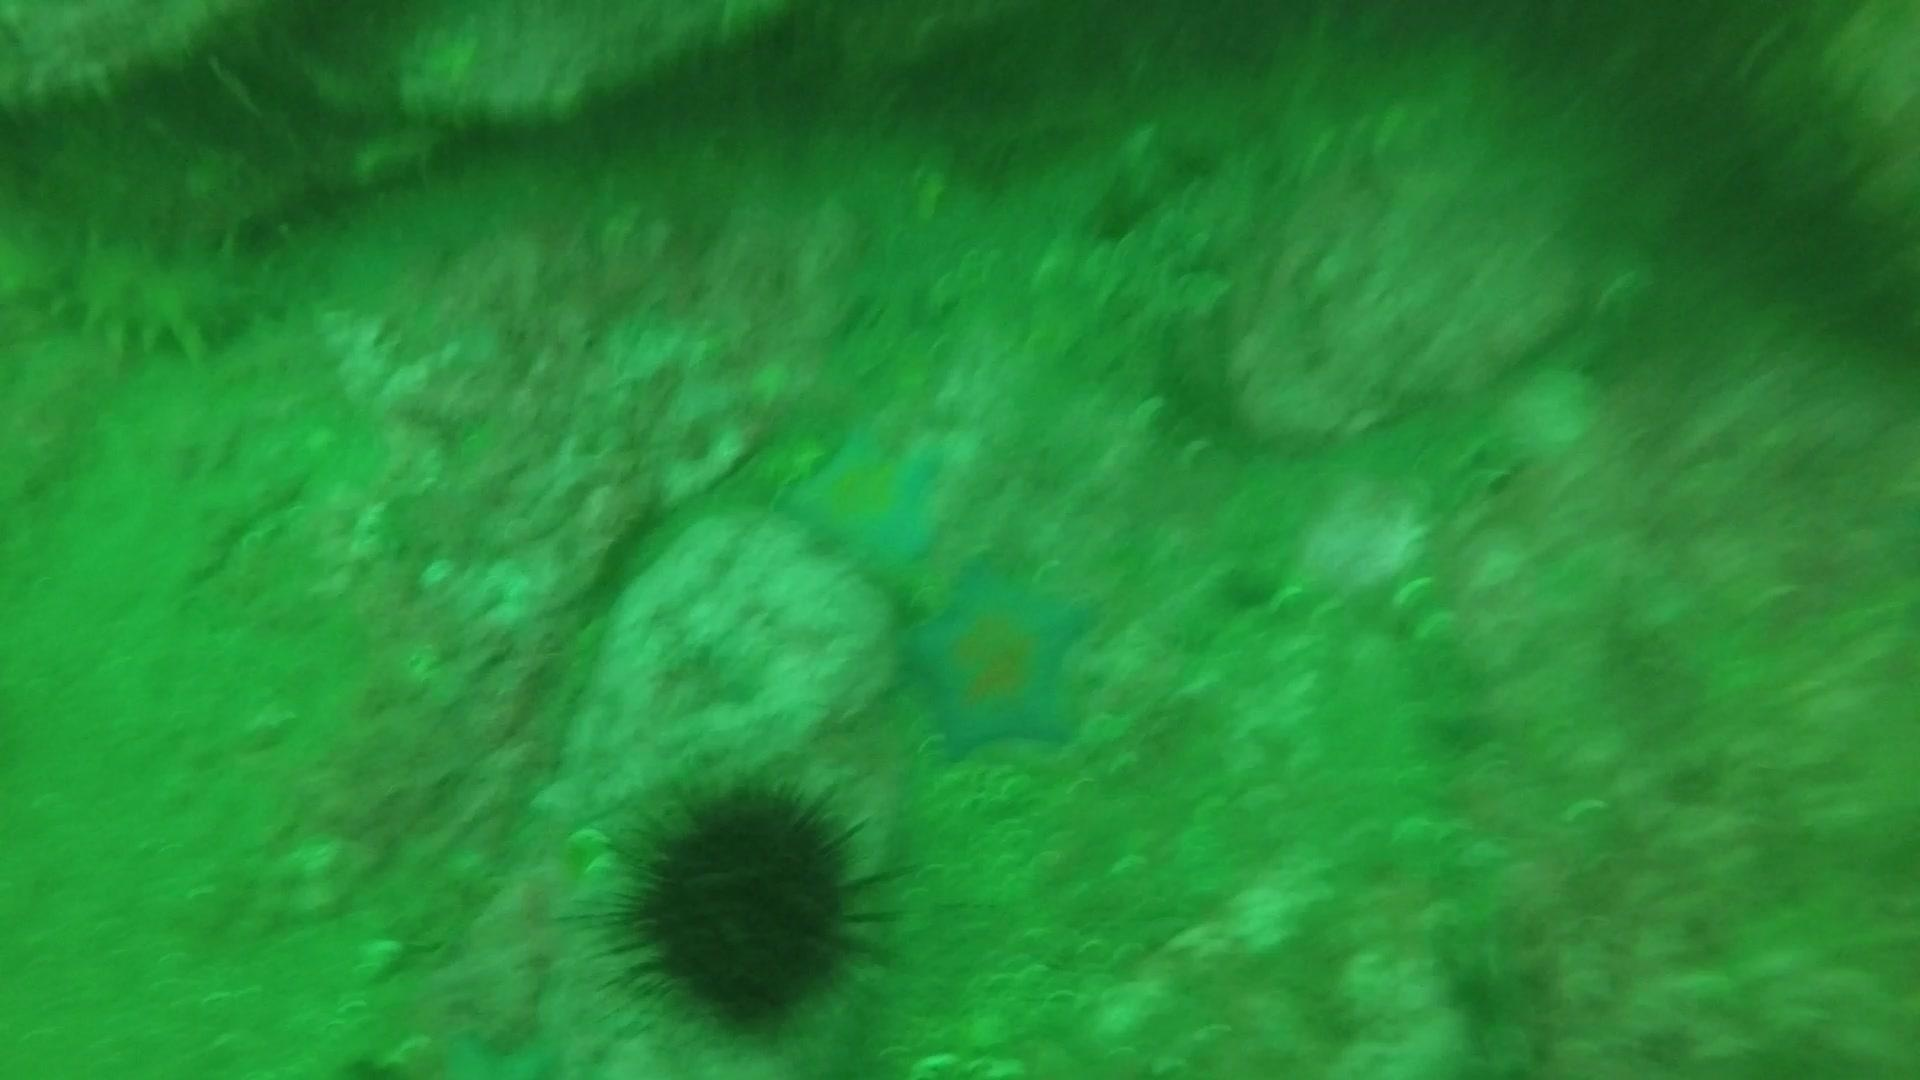echinus: (591, 767, 898, 1044)
holothurian: (1, 216, 272, 364)
starfish: (899, 560, 1101, 764), (775, 418, 953, 580)
